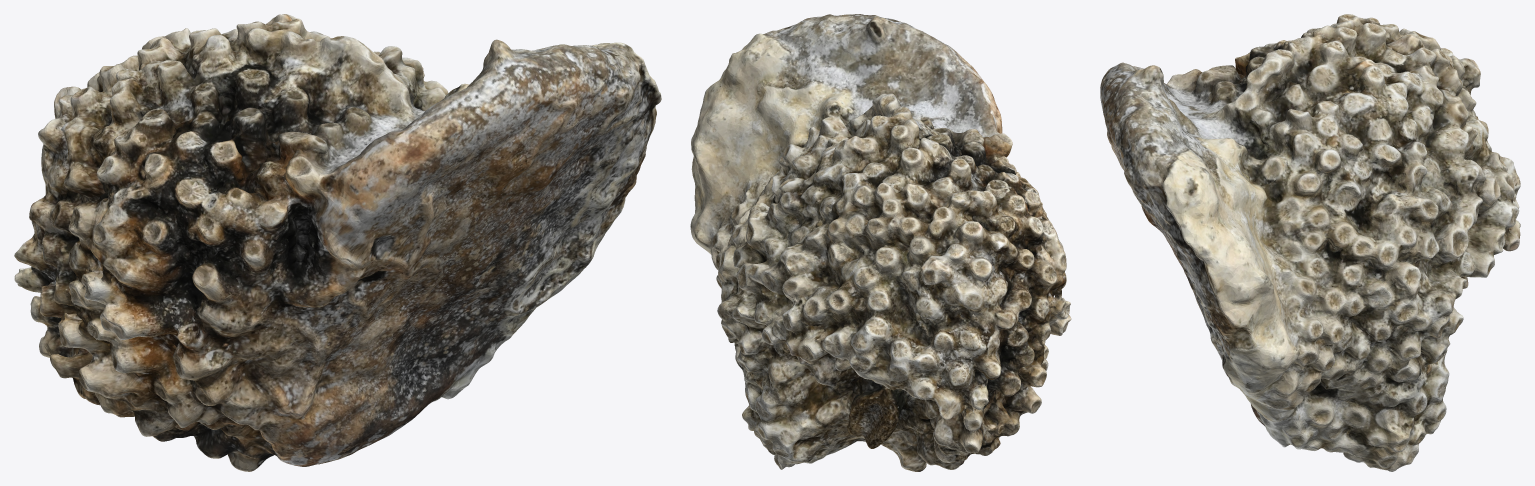
Rendered from MZUR3D-015.glb.
3 views of the same model, side by side, from view 1: azimuth 30°, elevation 25°; view 2: azimuth 150°, elevation 25°; view 3: azimuth 270°, elevation 25° (orthographic). The views are drawn at different scales.
Parts seen in each view (by area): view 1: MZUR3D-015; view 2: MZUR3D-015; view 3: MZUR3D-015.
Part boxes in pixels (x1,y1,x2,y2): MZUR3D-015: (14, 14, 661, 471); MZUR3D-015: (690, 14, 1071, 471); MZUR3D-015: (1100, 14, 1520, 471).
Size of the model in its own units: 1.39 by 1.2 by 1.1.
1 material, 1 textured.
